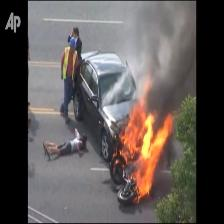fire: (125, 112, 163, 191)
smoke: (149, 18, 195, 96)
